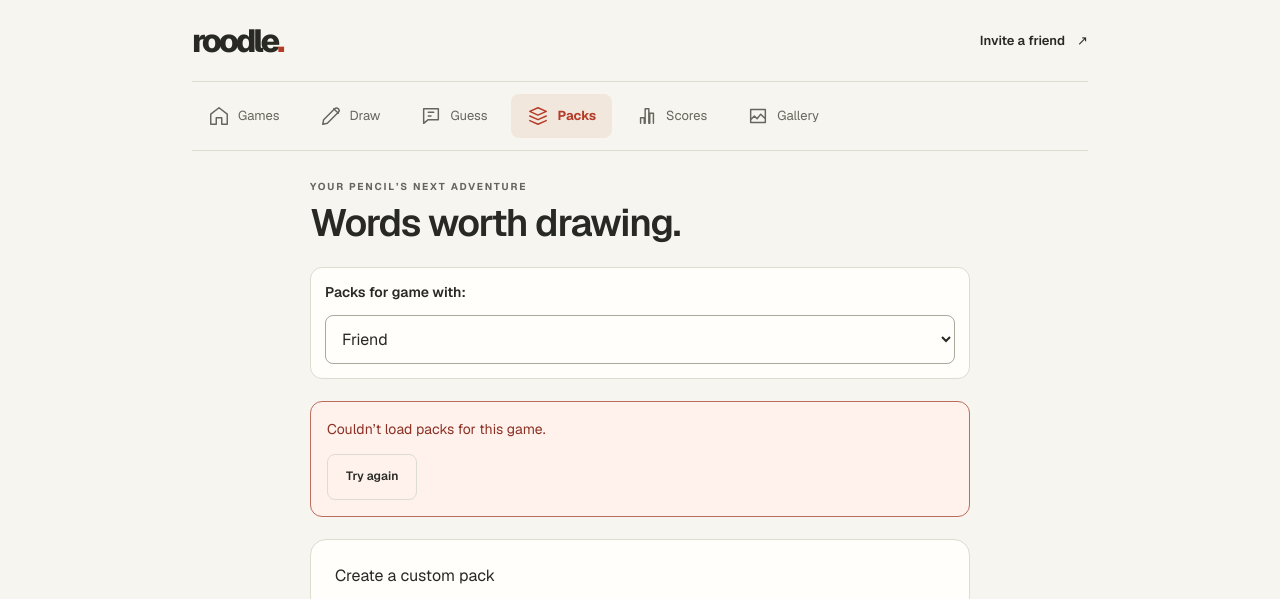
PacksPage (WORD-06) › surfaces a load failure with a retry that refetches
Click the button "Try again" at (372, 477), box [327,454,417,500]
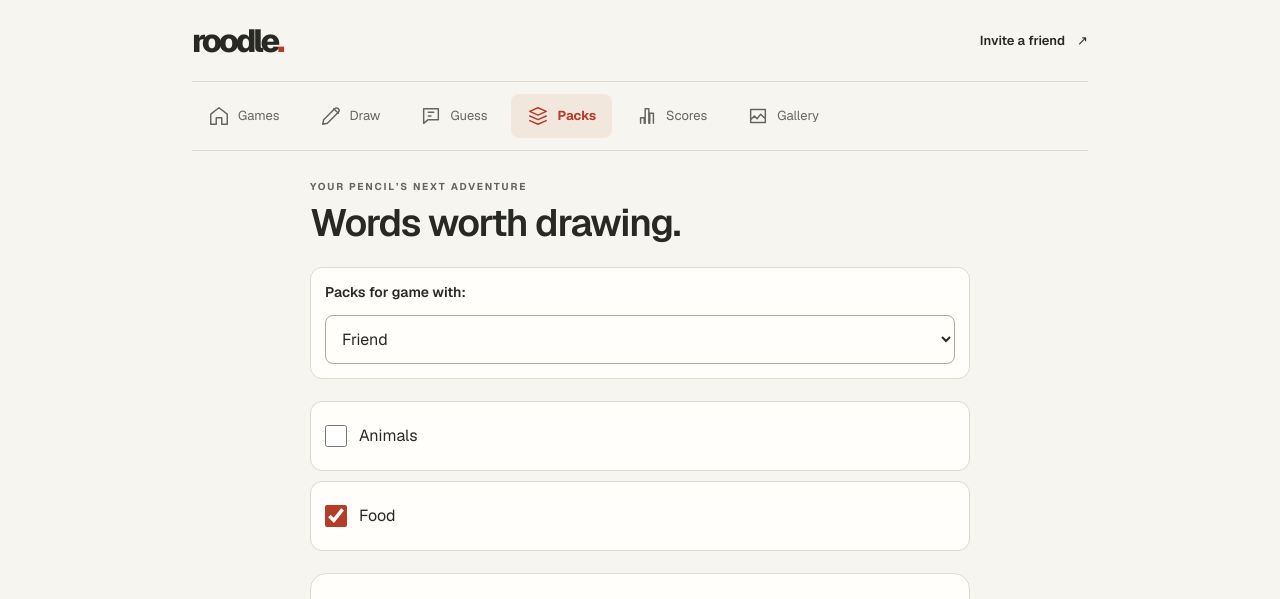
Expected: the checkbox labelled "Animals" is shown, [325,424,347,446]
